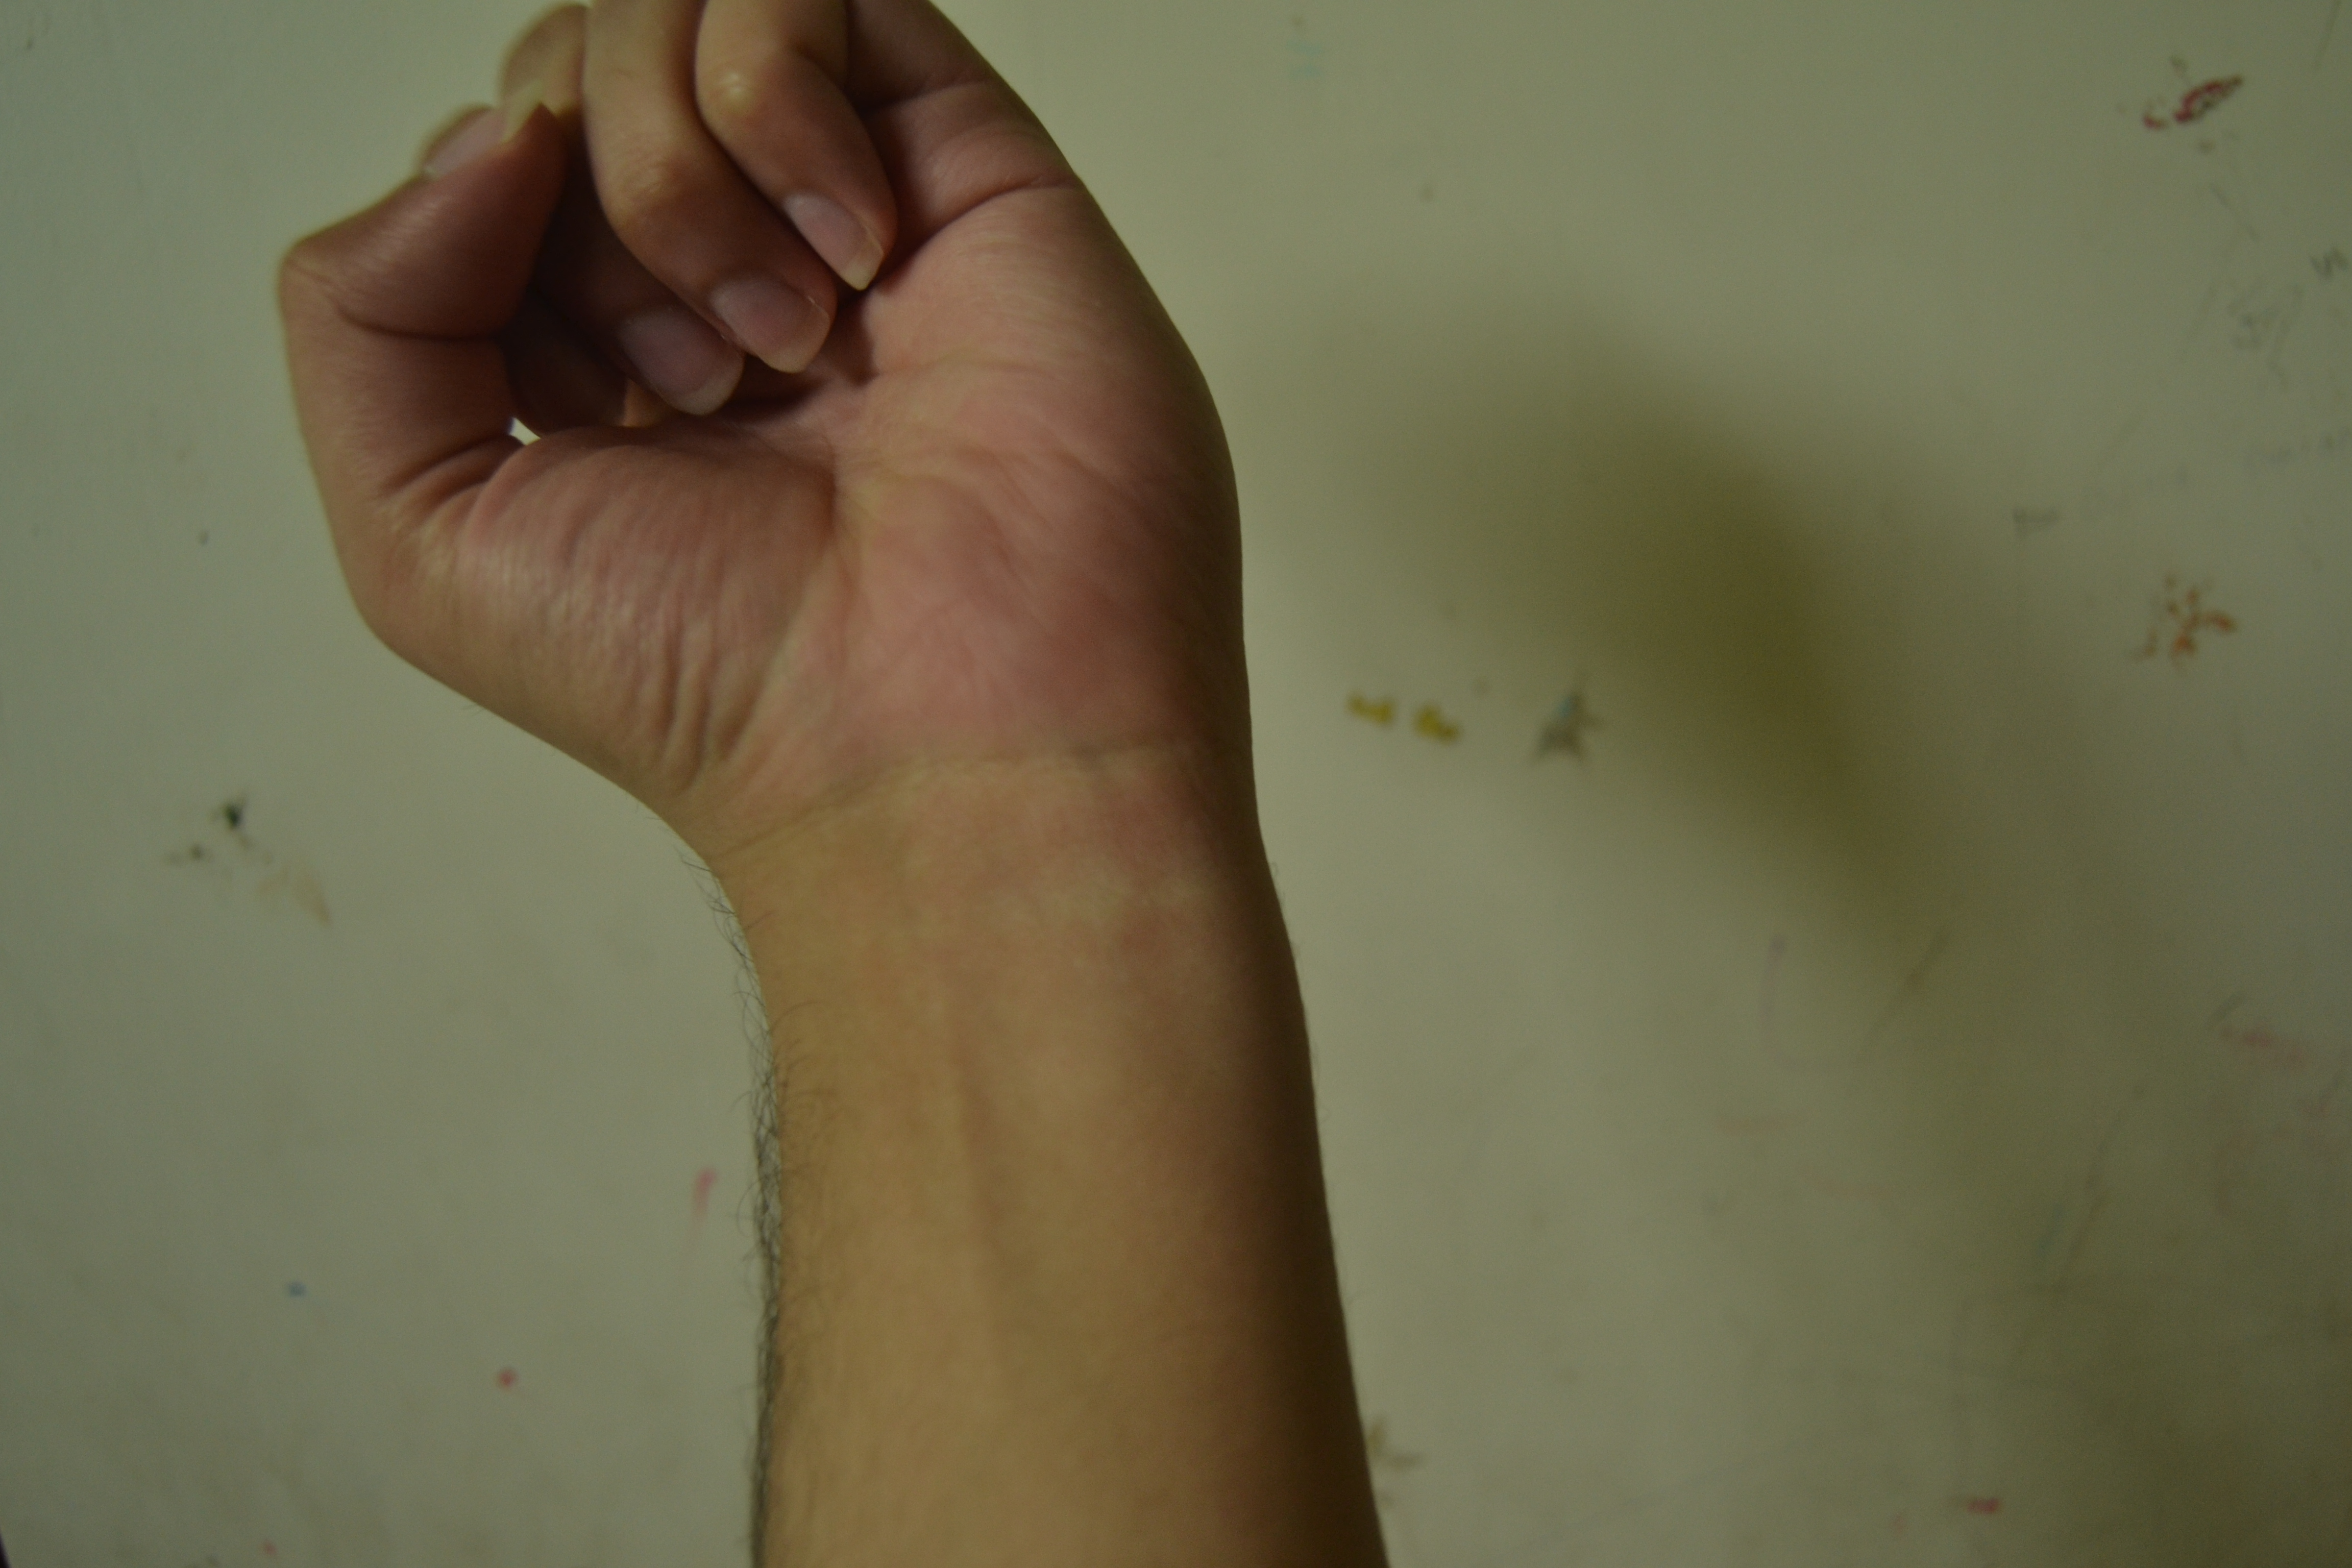click: (191, 0, 1430, 1020)
